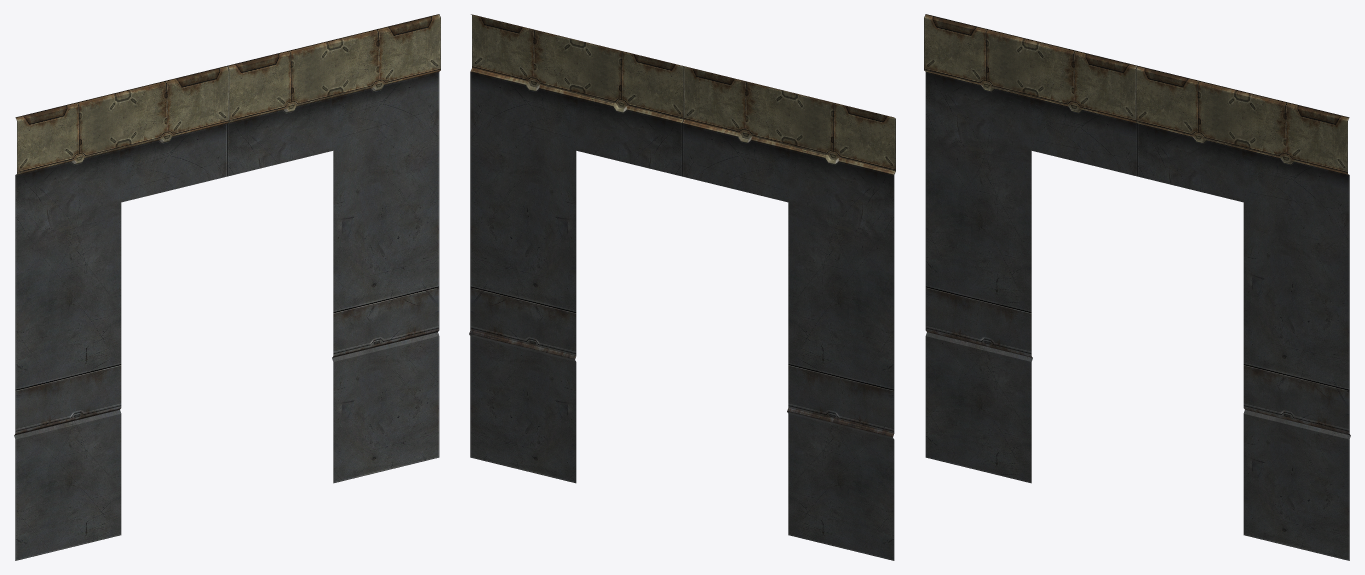
Rendered from datasite_doorway.dae.
The picture shows the model from 3 angles, left to right: view 1: azimuth 30°, elevation 25°; view 2: azimuth 150°, elevation 25°; view 3: azimuth 330°, elevation 25°; orthographic projection.
Parts seen in each view (by area): view 1: doorway; view 2: doorway; view 3: doorway.
Part boxes in pixels (left/top/right/bottom): doorway: left=14, top=14, right=440, bottom=560; doorway: left=469, top=14, right=895, bottom=560; doorway: left=924, top=14, right=1350, bottom=560.
Size of the model in its own units: 4 by 4 by 0.0483.
